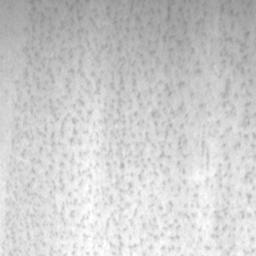Pitted surface: (0, 0, 256, 256), (221, 0, 252, 16)
